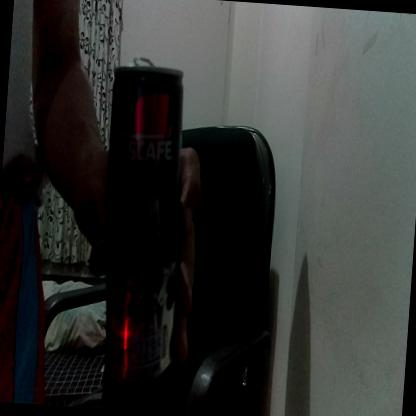alumunium_can: (92, 54, 196, 391)
